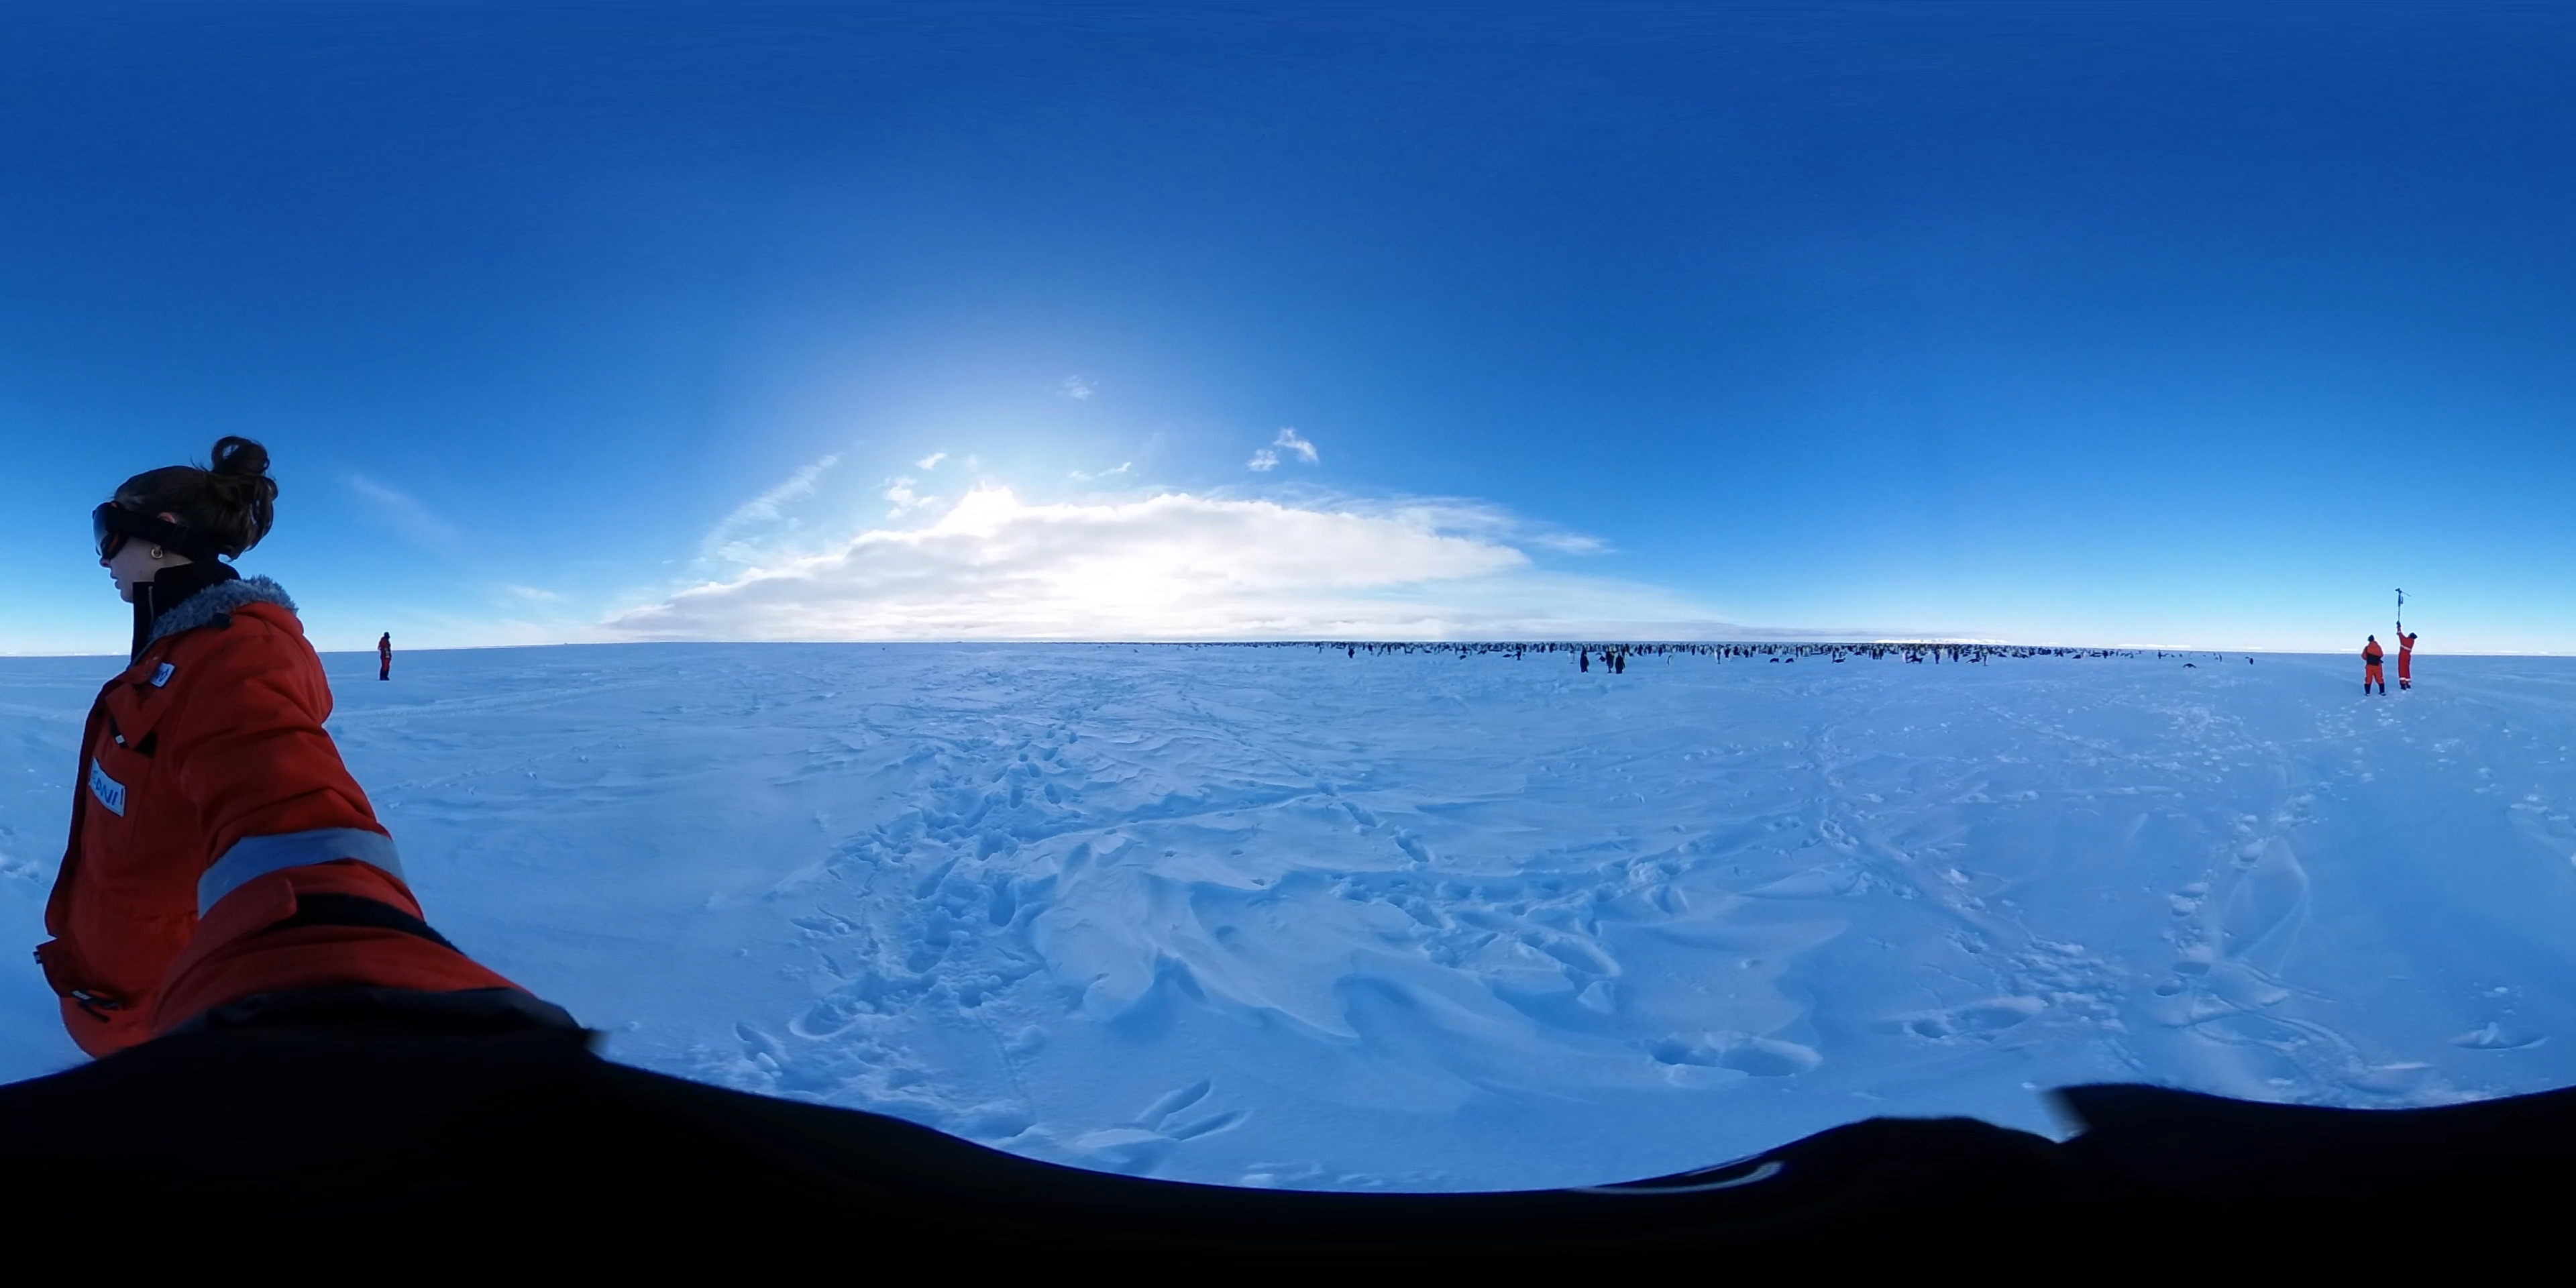adult_standing_penguin: (1613, 652, 1626, 680), (1579, 651, 1592, 677), (1664, 647, 1676, 672)
adult_toboggan_penguin: (2183, 659, 2200, 672), (1782, 657, 1797, 667), (1768, 655, 1781, 665), (1833, 655, 1847, 665)
researcher: (51, 435, 417, 1094), (2394, 619, 2417, 695), (2361, 634, 2387, 697), (375, 626, 401, 680)
